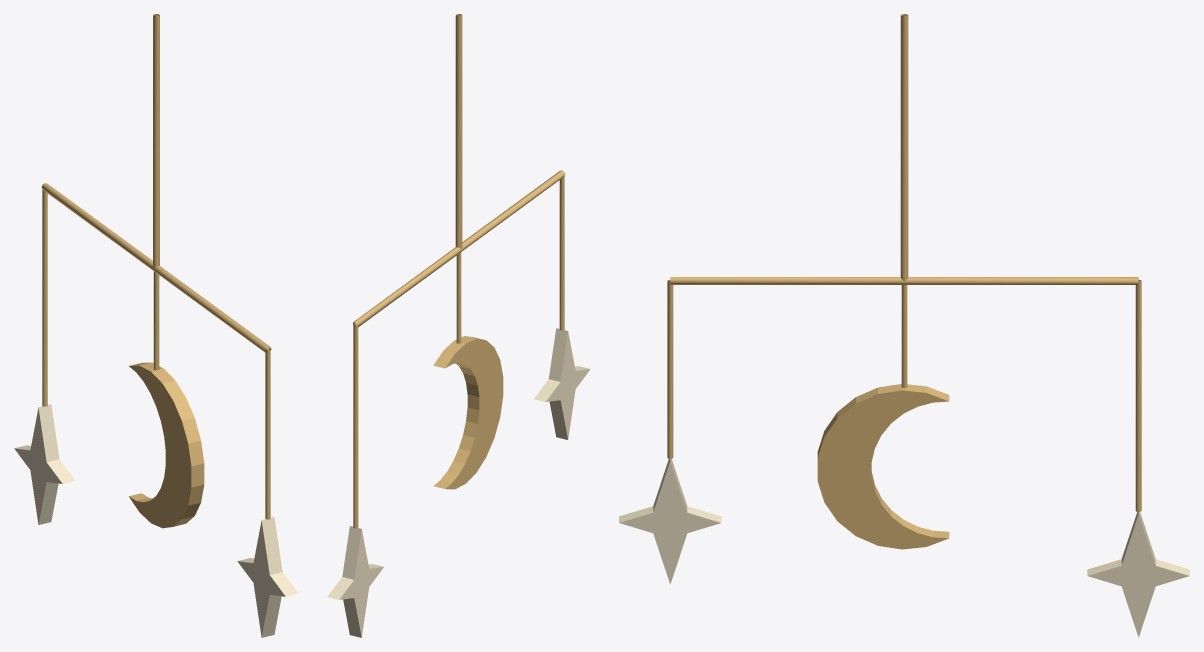
Rendered from Moon_Star_Mobile.fbx.
3 renders of one model, left to right at view 1: azimuth 30°, elevation 25°; view 2: azimuth 150°, elevation 25°; view 3: azimuth 270°, elevation 25°, orthographic. The views are drawn at different scales.
Visible parts, largest first — view 1: Moon_Star_Mobile_Mesh; view 2: Moon_Star_Mobile_Mesh; view 3: Moon_Star_Mobile_Mesh.
Boxes of the visible parts, <box> form: Moon_Star_Mobile_Mesh: <box>14,14,298,637</box>; Moon_Star_Mobile_Mesh: <box>327,14,590,637</box>; Moon_Star_Mobile_Mesh: <box>619,14,1189,637</box>.
Size of the model in its own units: 0.016 by 0.7 by 0.585.
